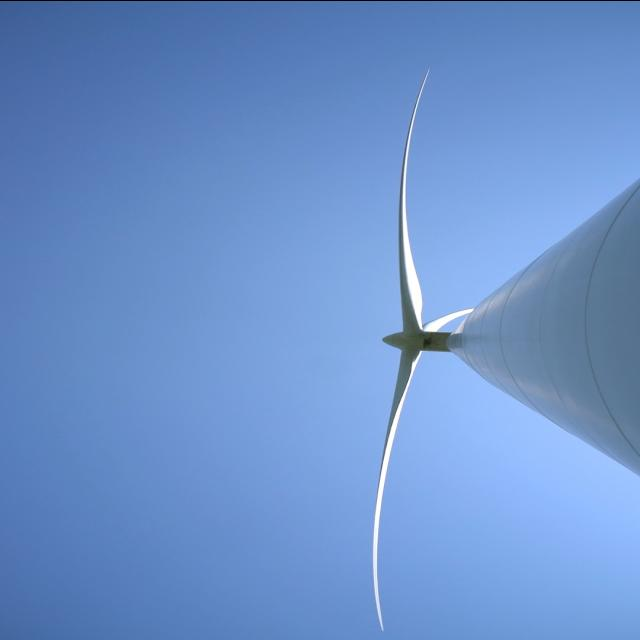blade 1: (350, 373, 412, 625)
blade 2: (382, 92, 452, 298)
blade 3: (426, 305, 456, 329)
